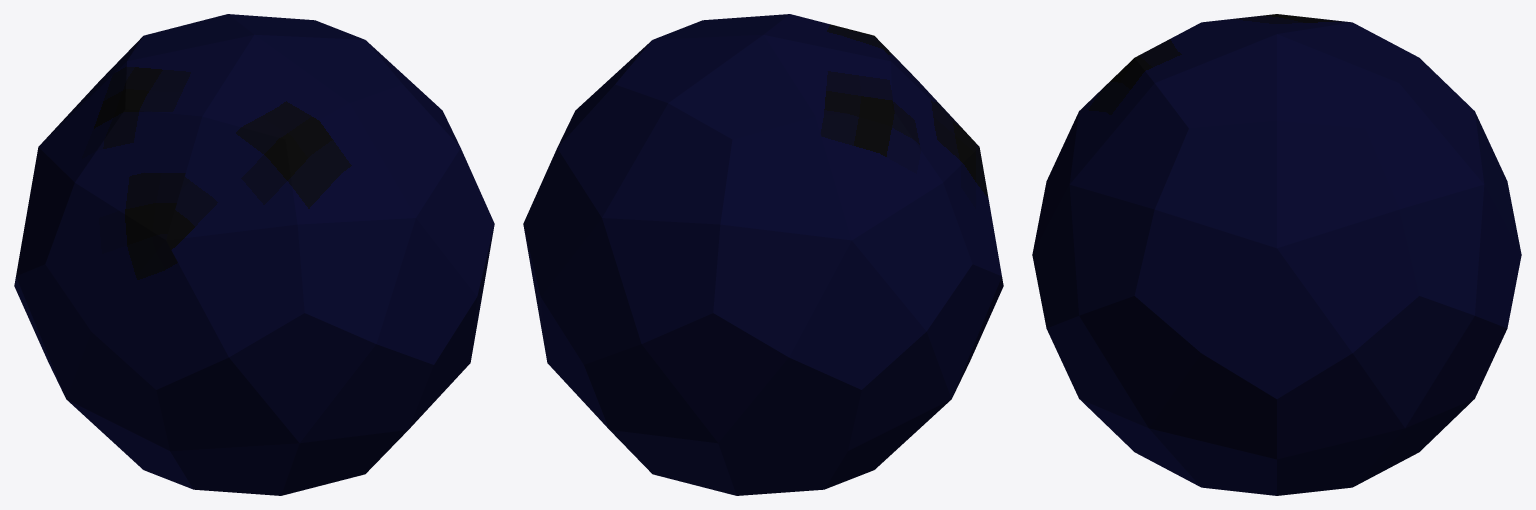
File: Bowling Ball.fbx
The picture shows the model from 3 angles, left to right: view 1: azimuth 30°, elevation 25°; view 2: azimuth 150°, elevation 25°; view 3: azimuth 270°, elevation 25°; orthographic projection.
Parts seen in each view (by area): view 1: Icosphere; view 2: Icosphere; view 3: Icosphere.
Boxes of the visible parts, <box> form: Icosphere: <box>14,14,494,495</box>; Icosphere: <box>523,14,1003,495</box>; Icosphere: <box>1032,14,1521,495</box>.
Bounding box in the file's own units: 148 × 148 × 149.
1 material, 1 textured.
